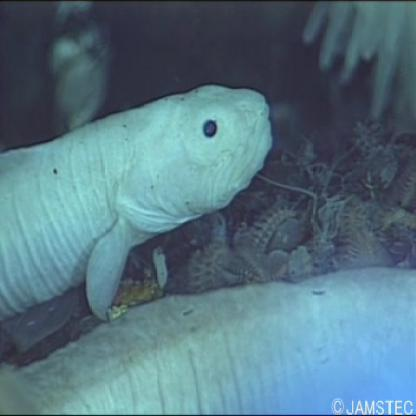Bio: (0, 78, 278, 322)
